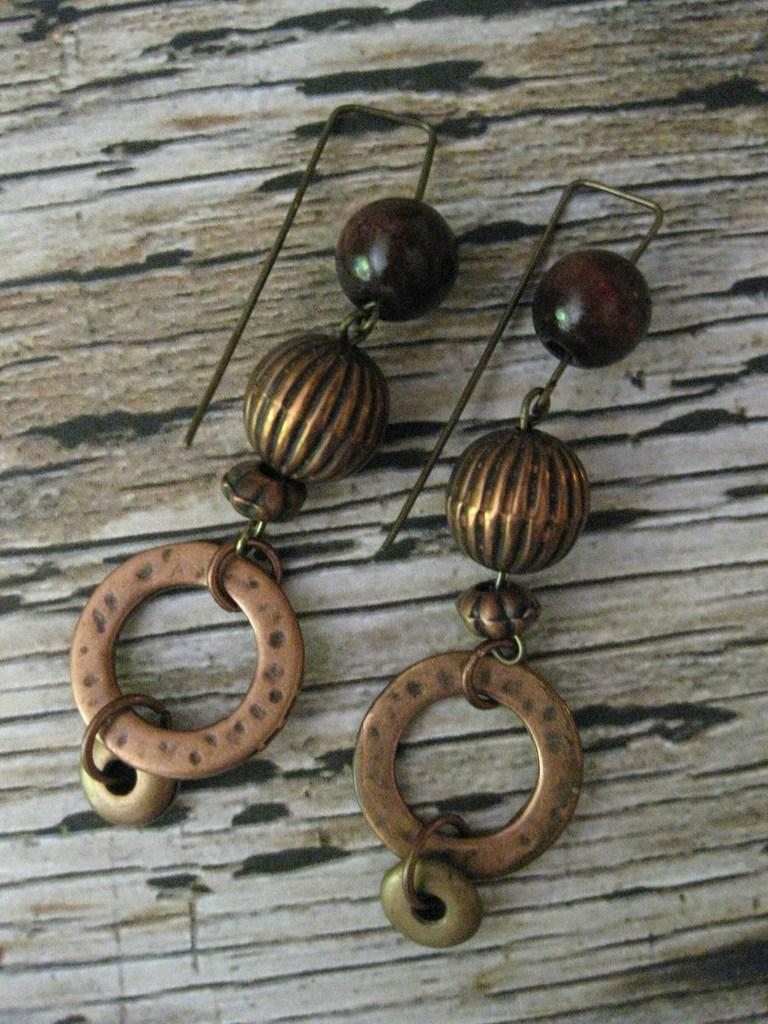earrings: (63, 97, 464, 827), (341, 164, 666, 957)
